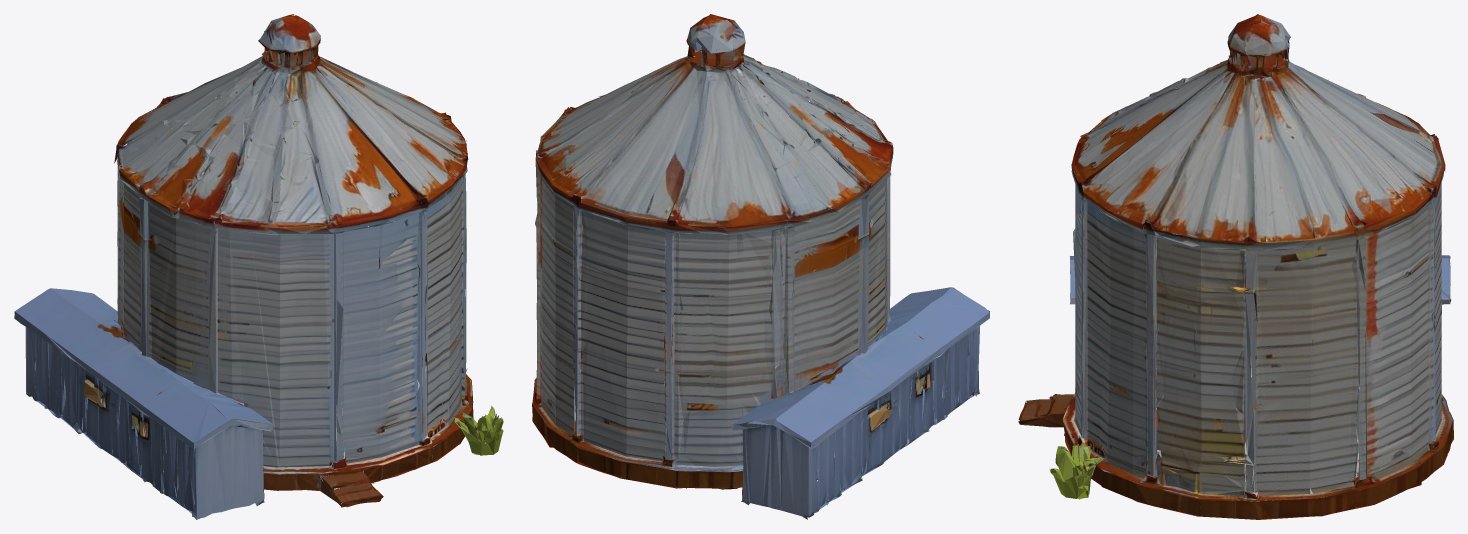
File: farm_silo.glb
3 renders of one model, left to right at view 1: azimuth 30°, elevation 25°; view 2: azimuth 150°, elevation 25°; view 3: azimuth 270°, elevation 25°, orthographic. The views are drawn at different scales.
Parts seen in each view (by area): view 1: obj.obj; view 2: obj.obj; view 3: obj.obj.
Part boxes in pixels (box(x1,y1,x2,y2)): obj.obj: box(14, 14, 503, 519); obj.obj: box(532, 14, 989, 519); obj.obj: box(1018, 14, 1453, 519).
Size of the model in its own units: 10.01 by 11 by 10.31.
Materials: 1 (1 with a texture image).
